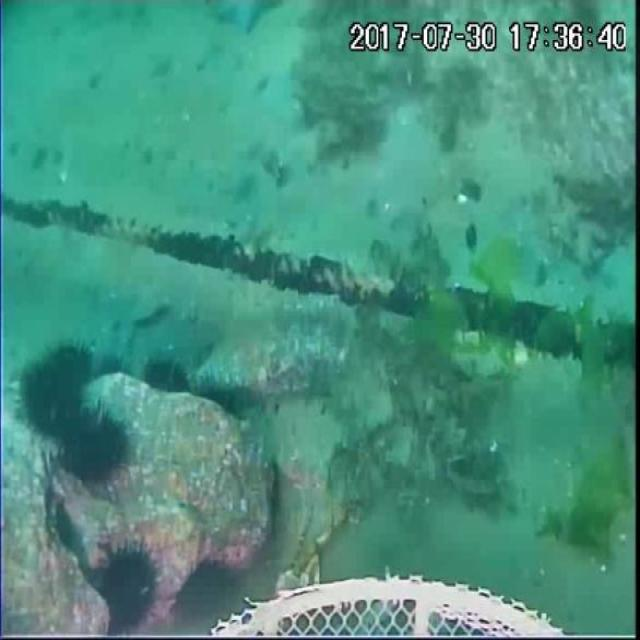echinus: (99, 539, 160, 632), (59, 409, 129, 488), (21, 358, 85, 442), (39, 335, 95, 393), (180, 560, 234, 619), (143, 355, 192, 393), (202, 381, 238, 416)
